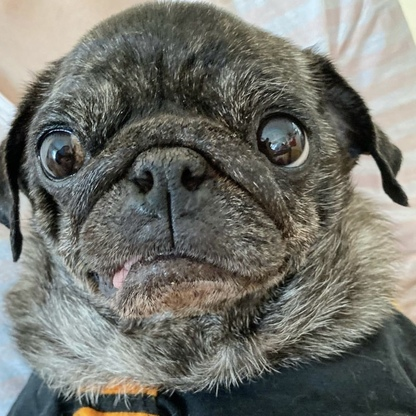Pug: (1, 1, 414, 416)
